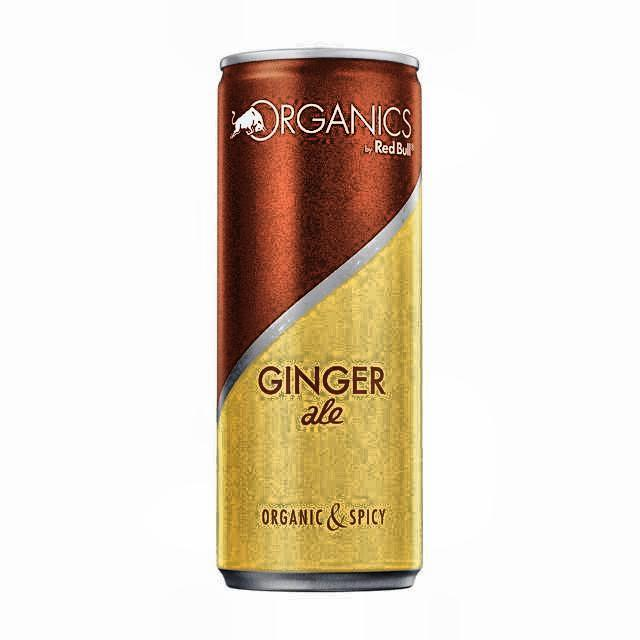metal: (214, 47, 426, 593)
